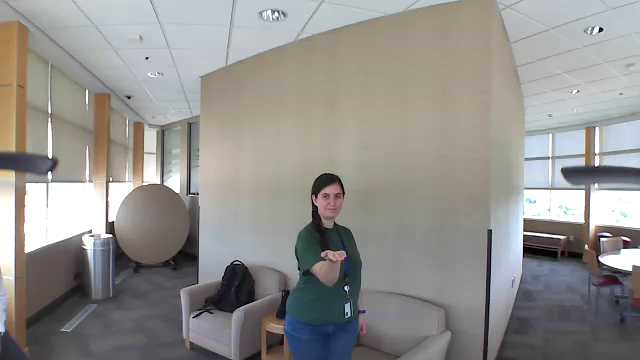land: (314, 246, 352, 264)
